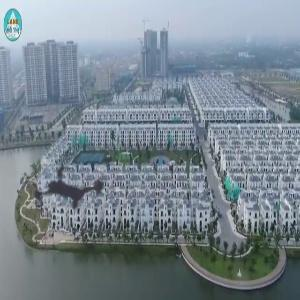drone: (3, 126, 129, 252)
